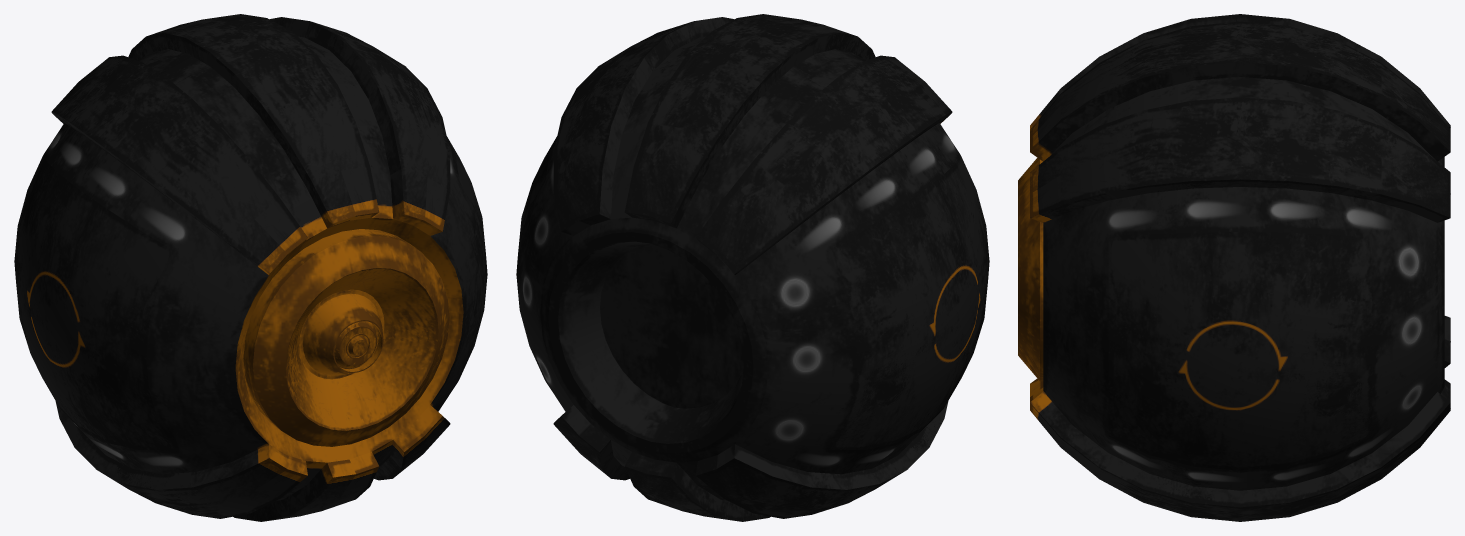
Rendered from 呼叫球.fbx.
3 renders of one model, left to right at view 1: azimuth 30°, elevation 25°; view 2: azimuth 150°, elevation 25°; view 3: azimuth 270°, elevation 25°, orthographic.
Parts seen in each view (by area): view 1: Sphere; view 2: Sphere; view 3: Sphere.
Part boxes in pixels (<box>): Sphere: <box>14,14,487,521</box>; Sphere: <box>516,14,989,521</box>; Sphere: <box>1018,14,1450,521</box>.
Size of the model in its own units: 2 by 2.14 by 1.83.
